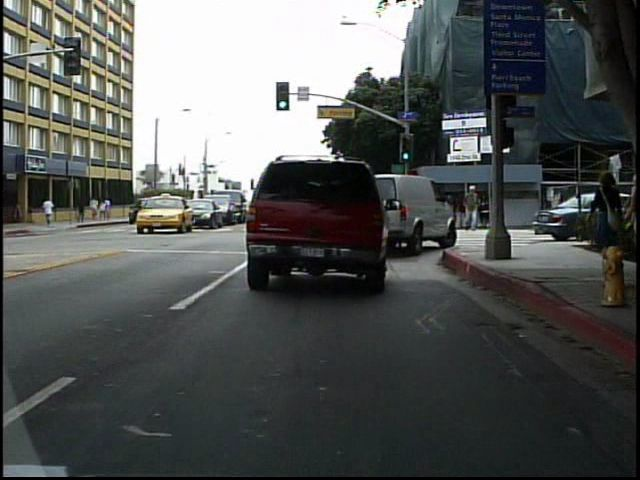person: (592, 168, 633, 280), (462, 183, 481, 235), (43, 194, 57, 228)
